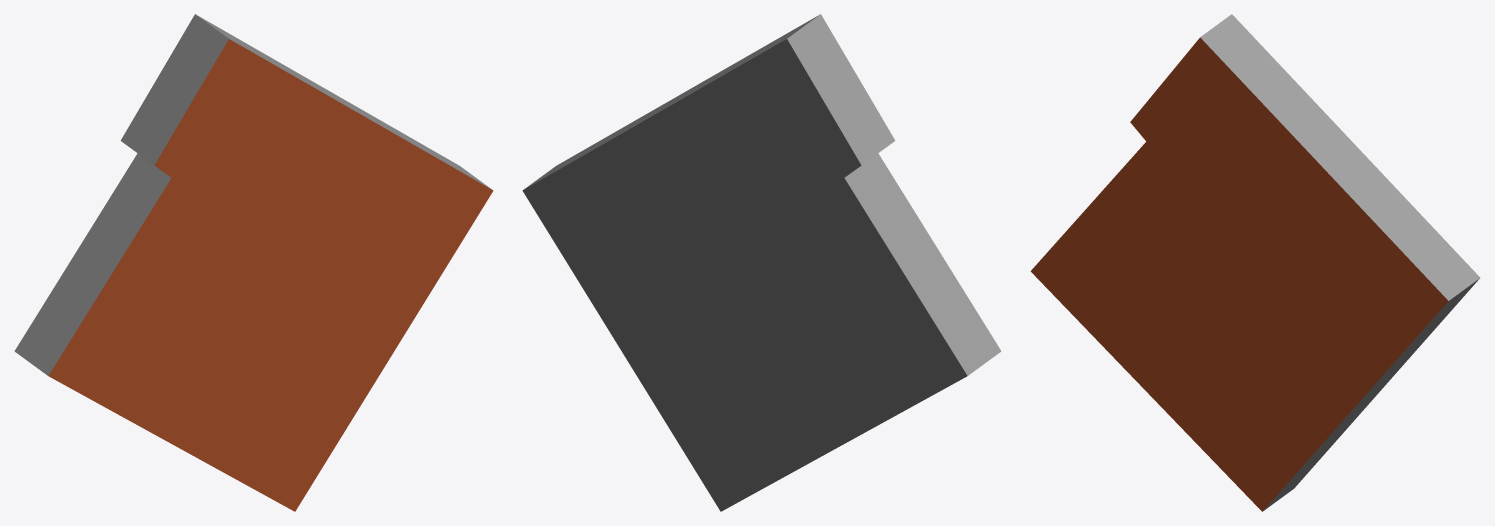
The model's file is construction_0437_assumed_A_Casa_h6m.obj.
The picture shows the model from 3 angles, left to right: view 1: azimuth 30°, elevation 25°; view 2: azimuth 150°, elevation 25°; view 3: azimuth 330°, elevation 25°; orthographic projection. The views are drawn at different scales.
Visible parts, largest first — view 1: construction_0437_assumed_A_Casa; view 2: construction_0437_assumed_A_Casa; view 3: construction_0437_assumed_A_Casa.
Boxes of the visible parts, bbox=[...] form: construction_0437_assumed_A_Casa: bbox=[14, 14, 493, 511]; construction_0437_assumed_A_Casa: bbox=[522, 14, 1001, 511]; construction_0437_assumed_A_Casa: bbox=[1030, 14, 1480, 511].
Bounding box in the file's own units: 45.52 × 47.79 × 6.
